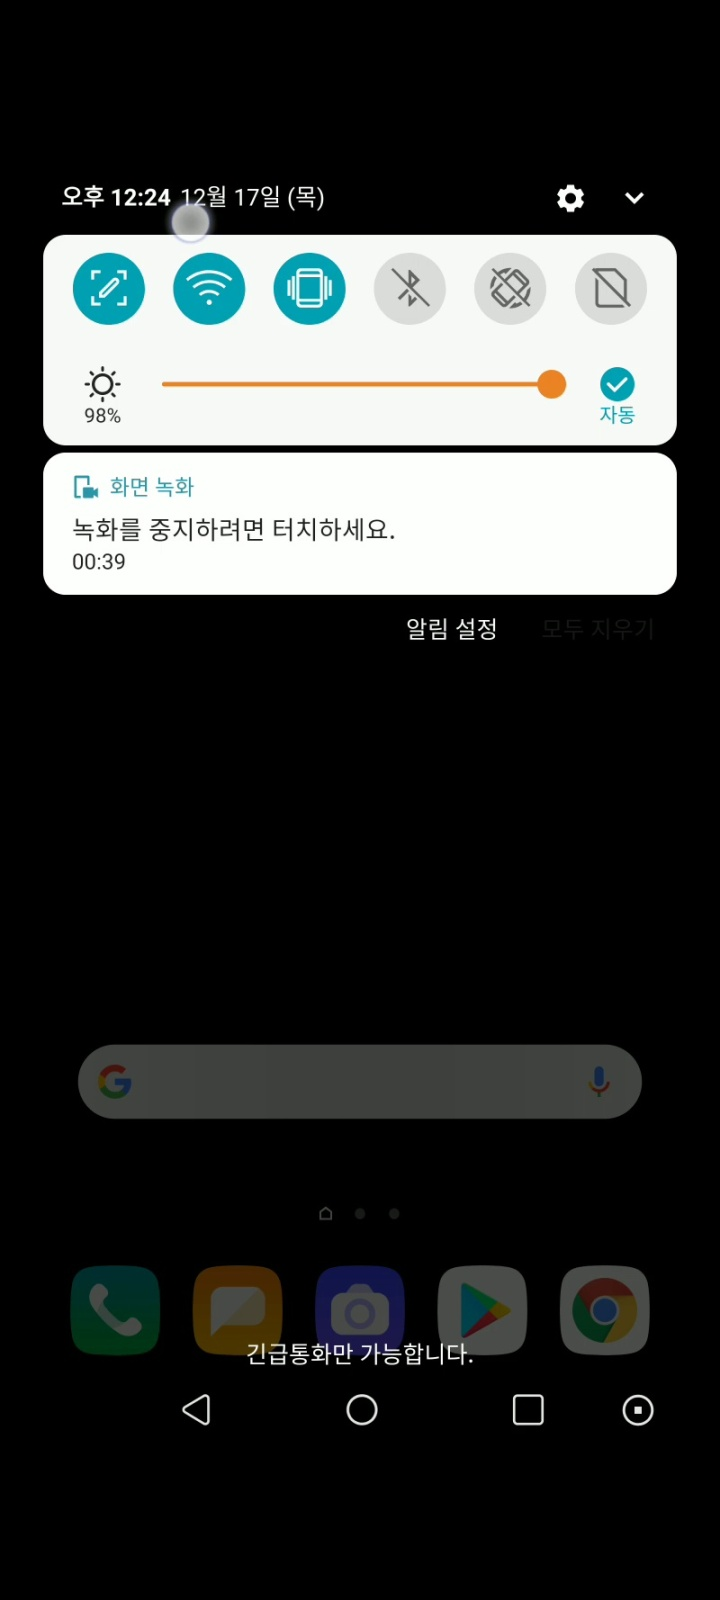Cursor: (168, 200, 213, 246)
